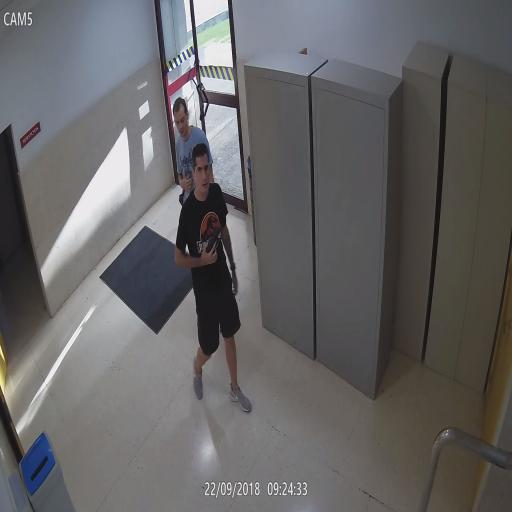Handgun: (203, 225, 221, 267), (177, 180, 186, 206)
